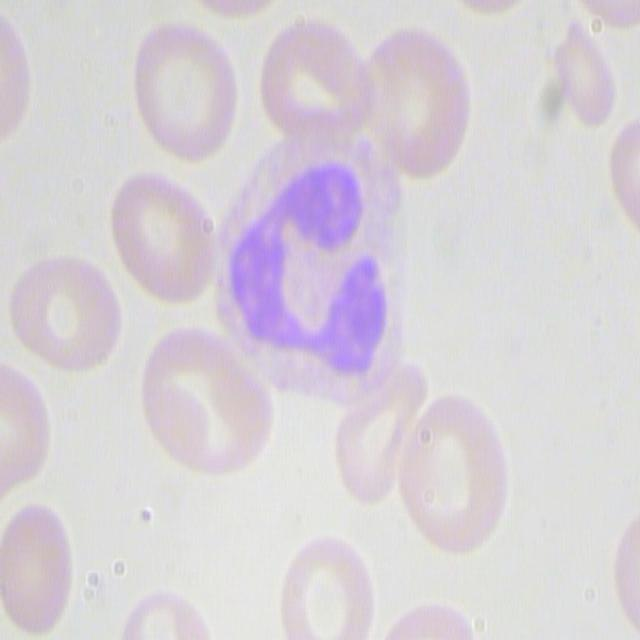RBC: (347, 0, 475, 180), (138, 319, 270, 489), (386, 392, 510, 560), (249, 2, 374, 152), (133, 14, 246, 175), (111, 162, 217, 310), (329, 348, 422, 513), (4, 250, 122, 378), (273, 528, 378, 638), (0, 496, 74, 632), (542, 26, 627, 133), (0, 351, 51, 495), (113, 585, 209, 640), (0, 5, 34, 142)
WBC: (234, 167, 389, 380)
